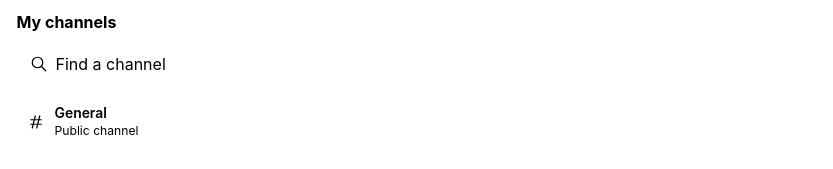
Scenario: a guest or missing permission never opens public rows; revocation withdraws an open confirmation
Later steps or results of the test are not shown.
Type "General" into the search field.
click(416, 64); type("General")  # box left=16, top=44, right=816, bottom=84
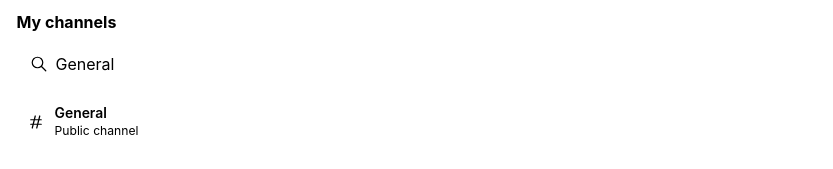
Expected: the button with aria-label "General, Public channel" is shown, left=16, top=96, right=816, bottom=147
Replace the text in the search field with "hidden" at (416, 64), box left=16, top=44, right=816, bottom=84
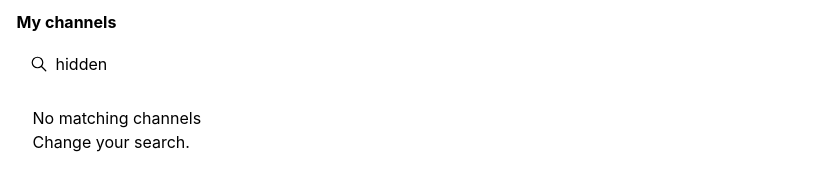
Now the text "Change your search." is shown, box left=32, top=132, right=190, bottom=152
